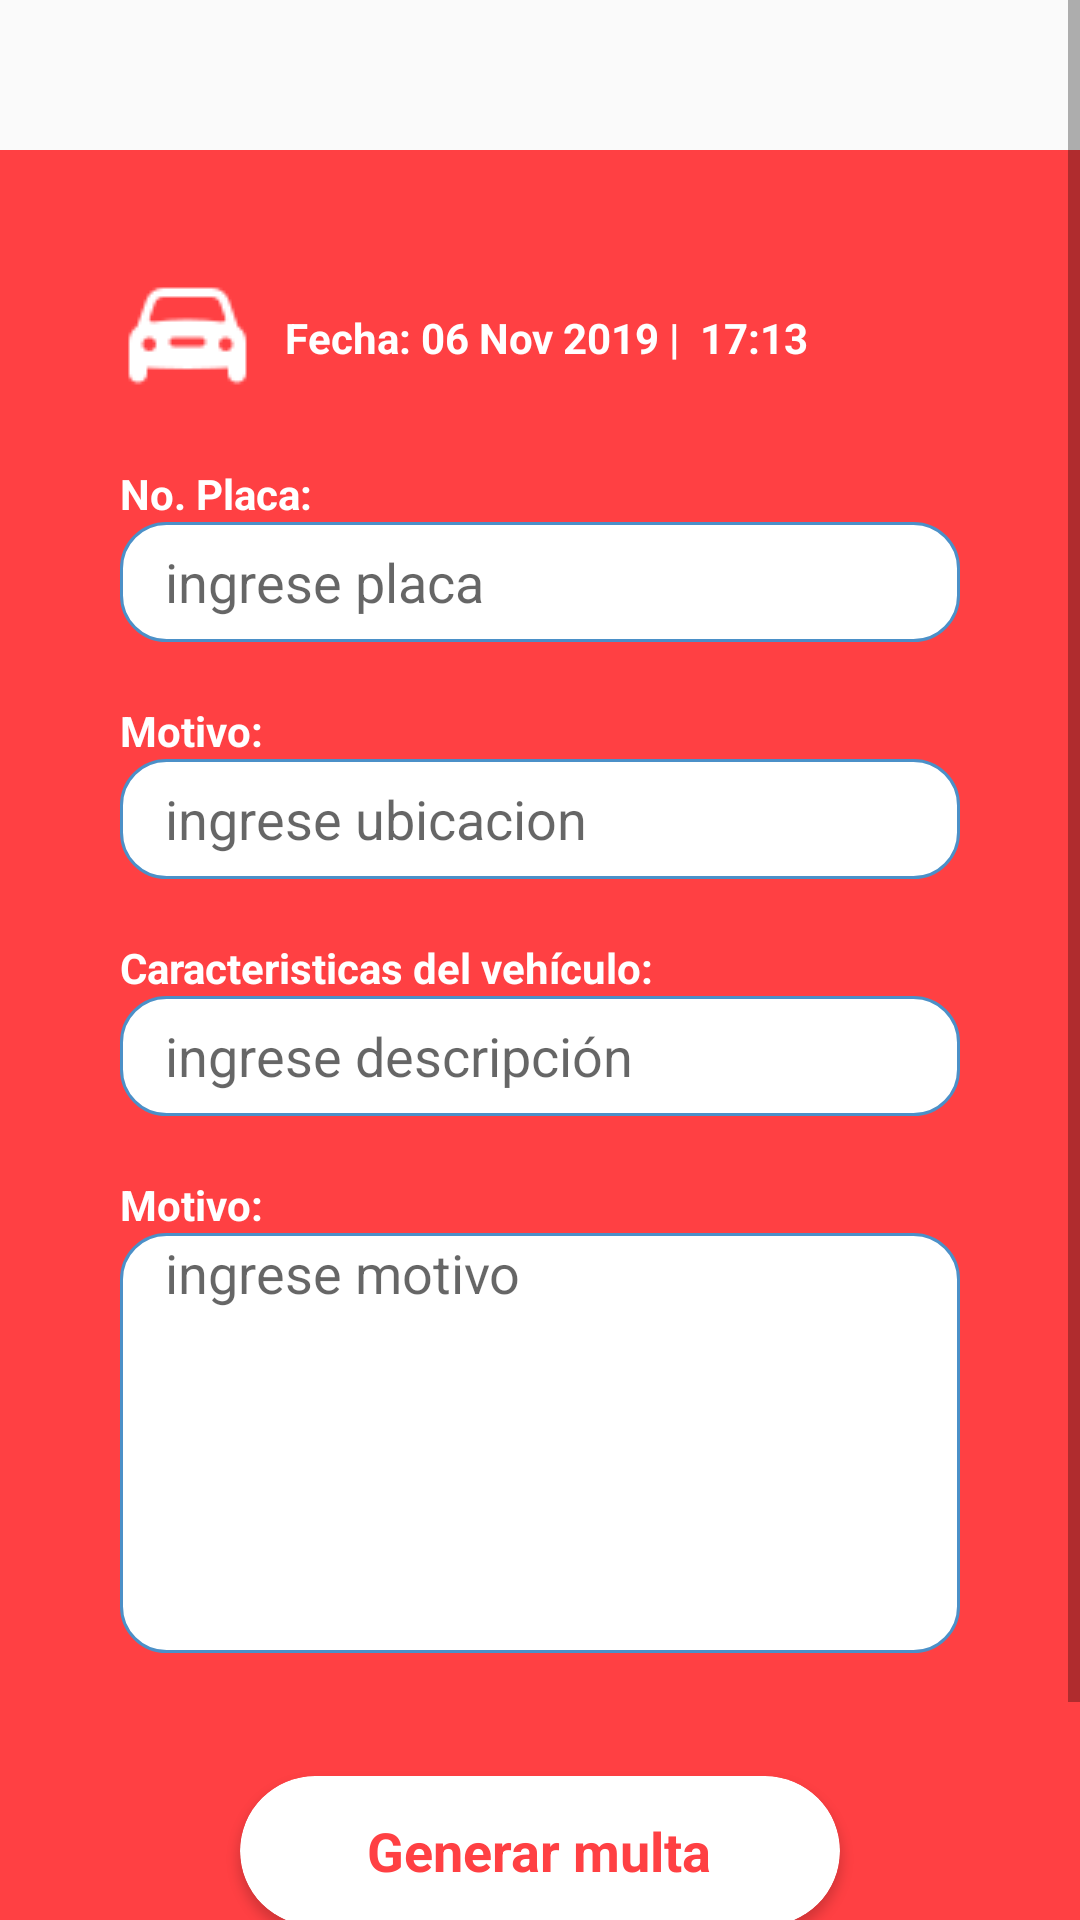

Where icons sit on this 1080×1920 app screen, as rect(x1, y1, x2, y2):
auto: rect(128, 287, 247, 385)
